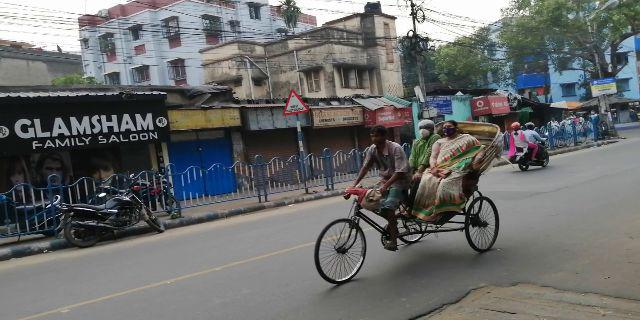Motorbike: (62, 202, 173, 248), (509, 121, 551, 173)
Rickshaw: (310, 126, 502, 286)
